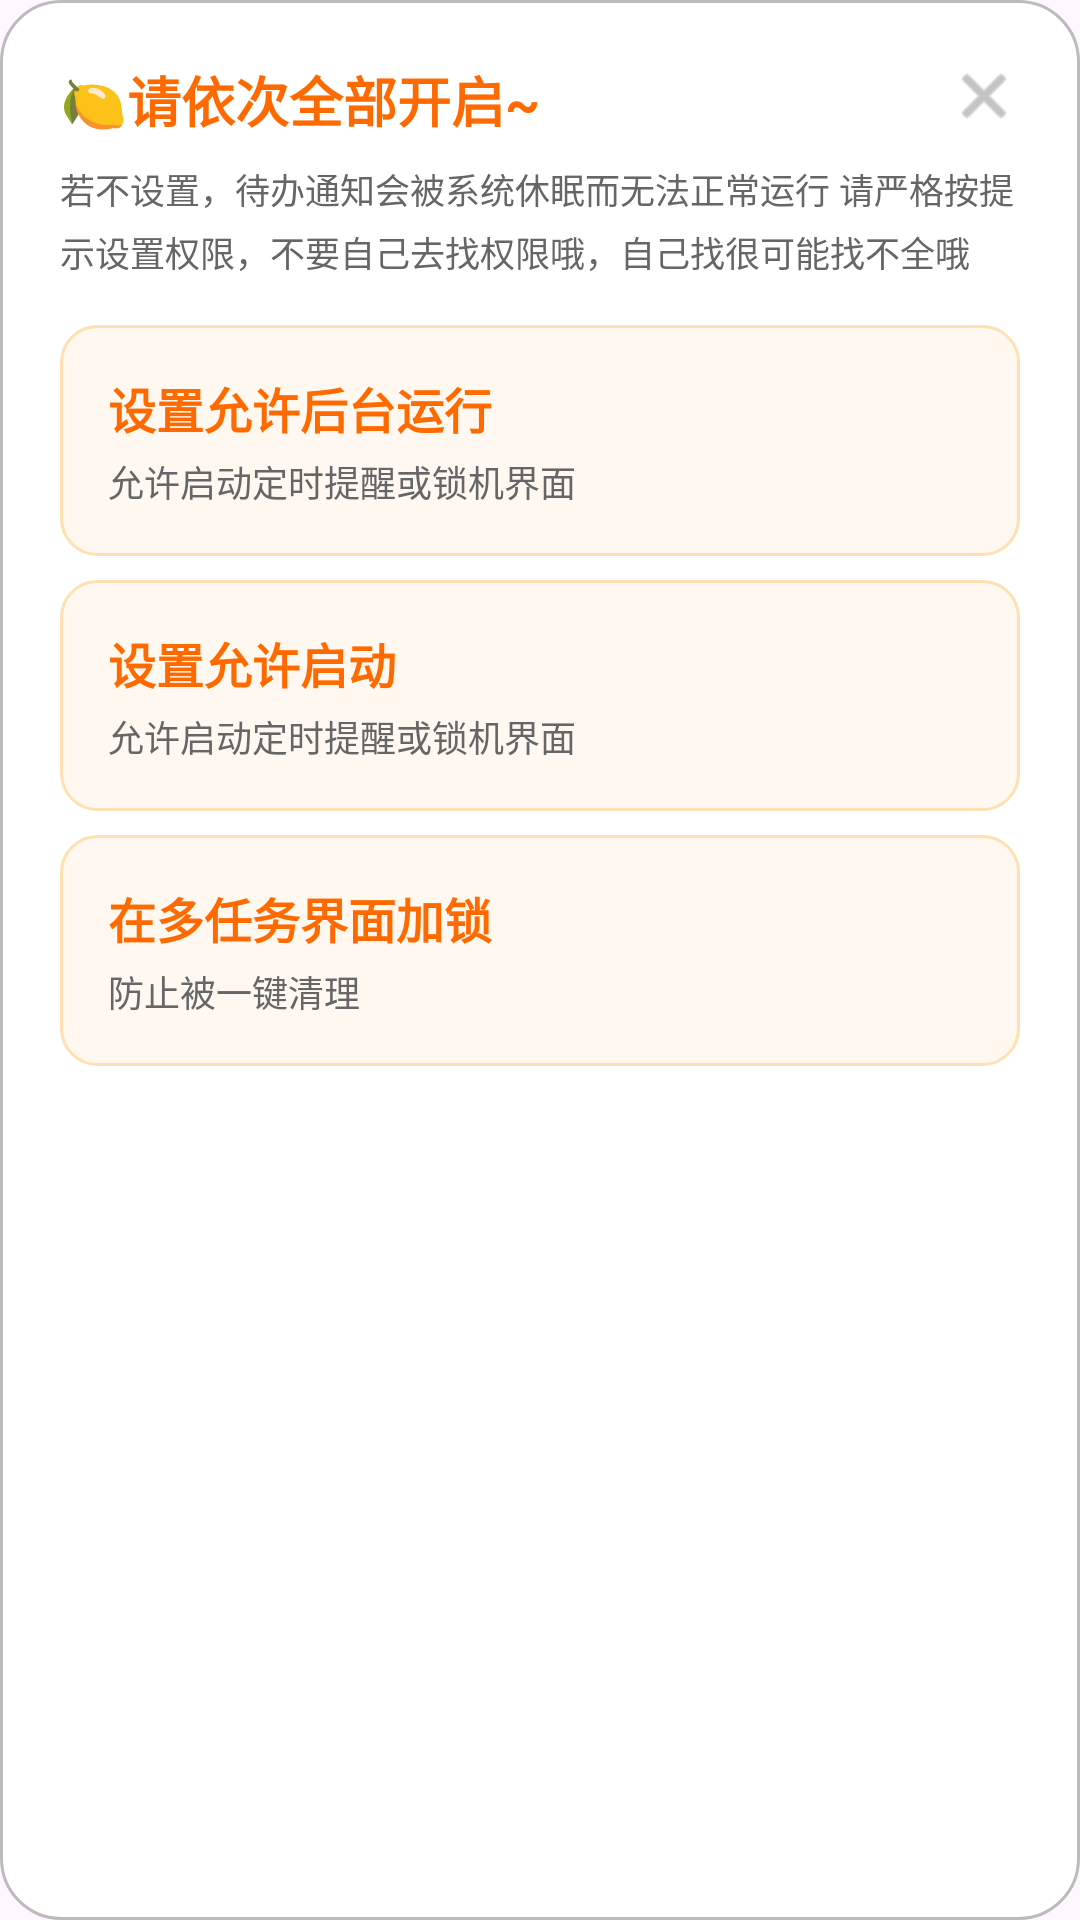

Screen size 1080x1920. Icon name, then its center in pixels as [x,y]:
删除: [984,96]
